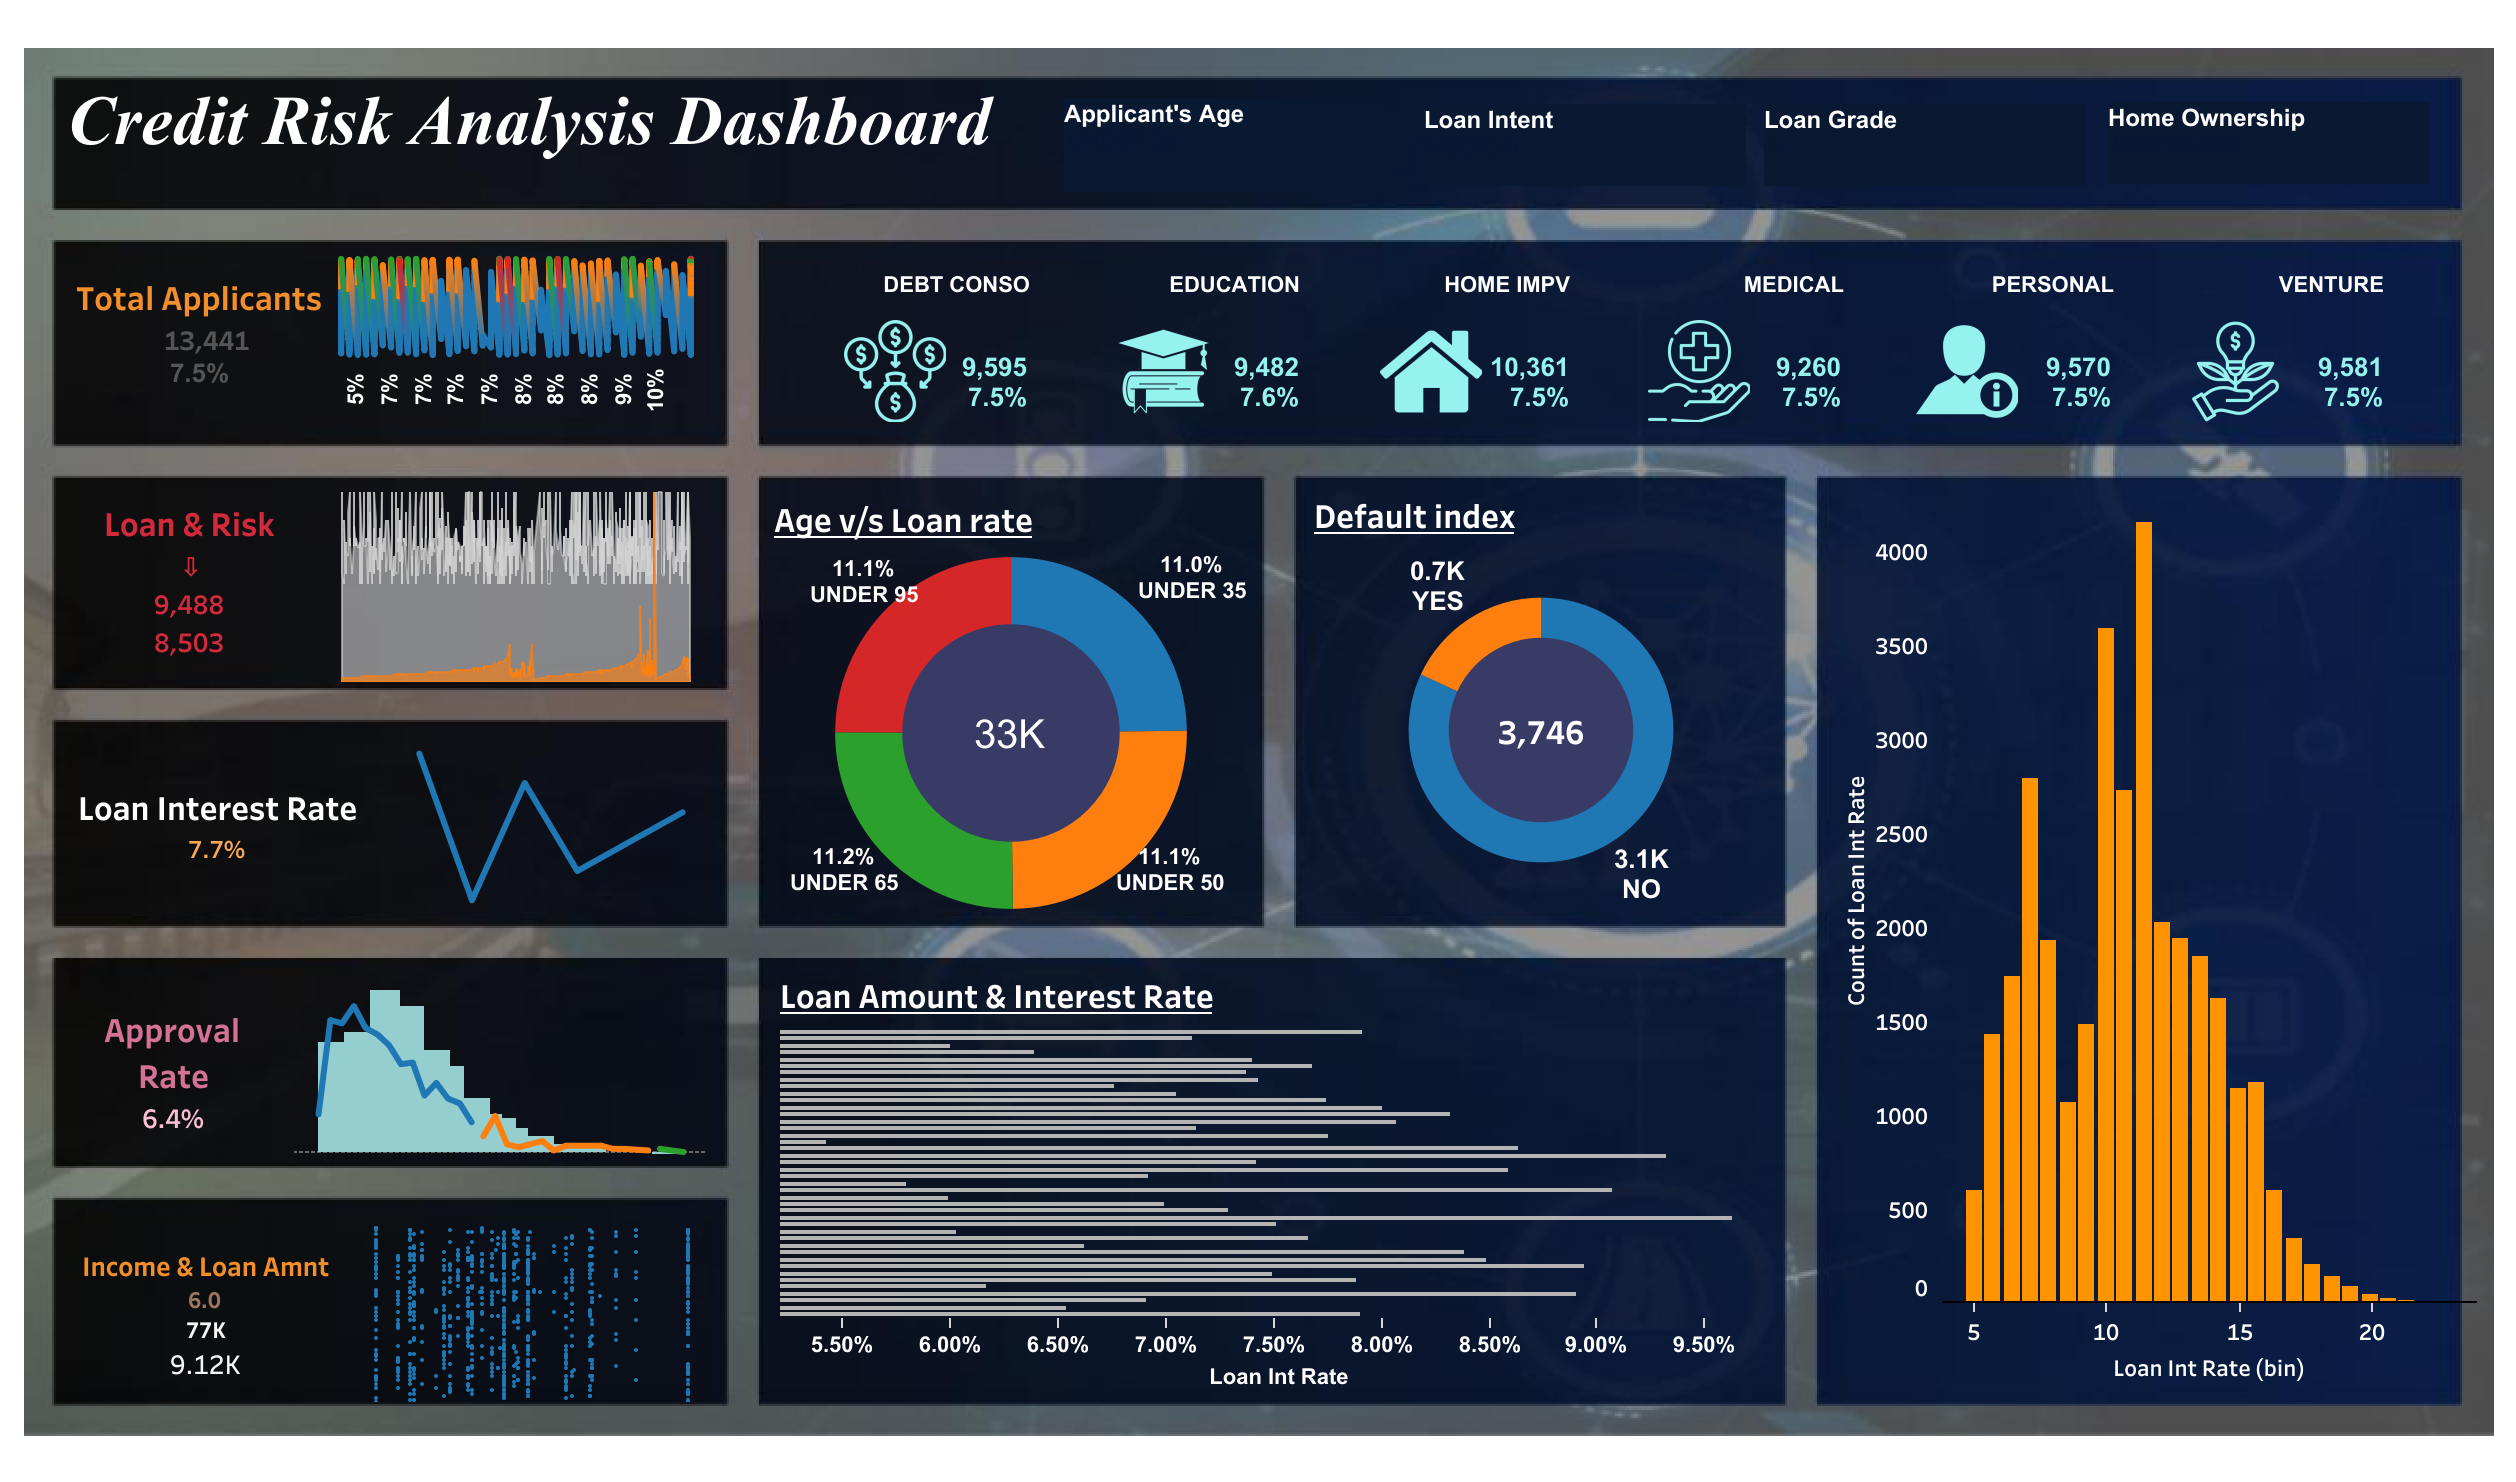

Layout of this report page (visuals, bound fields, positions):
{"tool":"tableau","page":{"name":"Dashboard 1","canvas":[1259,742],"ordinal":0},"visuals":[{"type":"image","param":"Image/Background.pptx.jpg","box":[8,8,1243,726]},{"type":"text","box":[31.4,33.2,495.2,53.8]},{"type":"parameter","param":"[Parameters].[Parameter 3]","box":[531.9,49.3,161.3,46.6]},{"type":"parameter","param":"[Parameters].[Parameter 1]","box":[1053.9,51.1,160.9,41.1]},{"type":"parameter","param":"[Parameters].[Parameter 4]","box":[712.3,52,160.4,41.2]},{"type":"parameter","param":"[Parameters].[Parameter 2]","box":[881.9,52.1,160.9,41.1]},{"type":"worksheet","title":"Sparkline 1","mark":"Line","rows":["INDEX"],"cols":["Calculation_226305908037791745"],"box":[164,121,187,90]},{"type":"worksheet","title":"Total applicants","mark":"Automatic","box":[26,123,148,86]},{"type":"worksheet","title":"Sheet 12","mark":"Automatic","cols":["loan_intent"],"box":[383,130,814,98]},{"type":"worksheet","title":"Sheet 11","mark":"Shape","cols":["loan_intent"],"box":[380,144,805,83]},{"type":"worksheet","title":"Sparkline 2","mark":"Area","rows":["Calculation_226305908037791745","Calculation_226305908103180301"],"cols":["INDEX"],"box":[157.8,237.5,200.5,107.5]},{"type":"worksheet","title":"Loan amount & risk","mark":"Automatic","box":[28.2,240.6,134.8,99.3]},{"type":"worksheet","title":"Sheet 16","mark":"Bar","rows":["loan_int_rate"],"cols":["Loan Int Rate (bin)"],"box":[917,242,322,453]},{"type":"worksheet","title":"Sheet 14","mark":"Pie","rows":["Calculation_217932029036830729","Calculation_217932029036851211"],"box":[656.7,243.7,227.3,212.6]},{"type":"worksheet","title":"Sheet 13","mark":"Pie","rows":["Calculation_217932029028073473","Calculation_217932029028134915"],"box":[387.2,245.7,237.3,211.6]},{"type":"worksheet","title":"Intent & Rate","mark":"Automatic","box":[26,365,166,96]},{"type":"worksheet","title":"Sparkline 3","mark":"Line","rows":["Calculation_226305908037791745"],"cols":["loan_intent"],"box":[192,365,166,96]},{"type":"worksheet","title":"Sheet 15","mark":"Bar","rows":["Calculation_226305908042833922"],"cols":["loan_int_rate"],"box":[390.2,484.3,498.8,213.6]},{"type":"worksheet","title":"Approval Rate","mark":"Automatic","box":[31.4,485.7,112,99.5]},{"type":"worksheet","title":"Sparkline 4","mark":"Bar","rows":["Calculation_226305908036734976"],"cols":["Calculation_226305908103241742","person_age"],"box":[143.4,485.7,213.2,99.5]},{"type":"worksheet","title":"Income & Loan Amount","mark":"Automatic","box":[30.5,609.4,144,95.9]},{"type":"worksheet","title":"Sparkline 5","mark":"Circle","rows":["Calculation_226305908103180301"],"cols":["loan_int_rate"],"box":[174.5,609.4,182.1,95.9]}]}

Visuals, with their boxes in screenshot pixels (x1, y1, x2, y2), scaled from the page's 1259x742 canvas onto the 2516x1482 screenshot:
image: {"left": 16, "top": 16, "right": 2500, "bottom": 1466}
text: {"left": 63, "top": 66, "right": 1052, "bottom": 174}
parameter: {"left": 1063, "top": 98, "right": 1385, "bottom": 192}
parameter: {"left": 2106, "top": 102, "right": 2428, "bottom": 184}
parameter: {"left": 1423, "top": 104, "right": 1744, "bottom": 186}
parameter: {"left": 1762, "top": 104, "right": 2084, "bottom": 186}
"Sparkline 1" worksheet (Line marks): {"left": 328, "top": 242, "right": 701, "bottom": 421}
"Total applicants" worksheet: {"left": 52, "top": 246, "right": 348, "bottom": 417}
"Sheet 12" worksheet: {"left": 765, "top": 260, "right": 2392, "bottom": 455}
"Sheet 11" worksheet (Shape marks): {"left": 759, "top": 288, "right": 2368, "bottom": 453}
"Sparkline 2" worksheet (Area marks): {"left": 315, "top": 474, "right": 716, "bottom": 689}
"Loan amount & risk" worksheet: {"left": 56, "top": 481, "right": 326, "bottom": 679}
"Sheet 16" worksheet (Bar marks): {"left": 1833, "top": 483, "right": 2476, "bottom": 1388}
"Sheet 14" worksheet (Pie marks): {"left": 1312, "top": 487, "right": 1767, "bottom": 911}
"Sheet 13" worksheet (Pie marks): {"left": 774, "top": 491, "right": 1248, "bottom": 913}
"Intent & Rate" worksheet: {"left": 52, "top": 729, "right": 384, "bottom": 921}
"Sparkline 3" worksheet (Line marks): {"left": 384, "top": 729, "right": 715, "bottom": 921}
"Sheet 15" worksheet (Bar marks): {"left": 780, "top": 967, "right": 1777, "bottom": 1394}
"Approval Rate" worksheet: {"left": 63, "top": 970, "right": 287, "bottom": 1169}
"Sparkline 4" worksheet (Bar marks): {"left": 287, "top": 970, "right": 713, "bottom": 1169}
"Income & Loan Amount" worksheet: {"left": 61, "top": 1217, "right": 349, "bottom": 1409}
"Sparkline 5" worksheet (Circle marks): {"left": 349, "top": 1217, "right": 713, "bottom": 1409}
